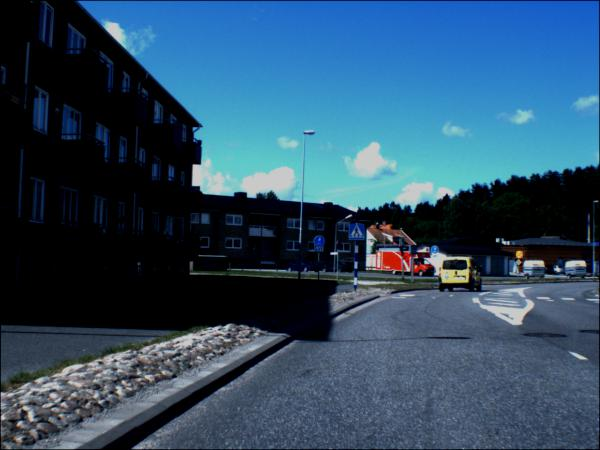50_SIGN: (516, 252, 524, 260)
PEDESTRIAN_CROSSING: (349, 226, 365, 242)
PRIORITY_ROAD: (515, 260, 523, 268)
